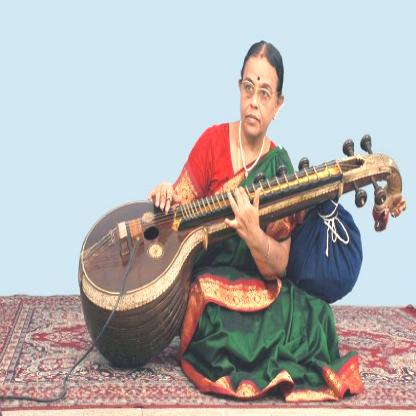Veena: (67, 165, 364, 352)
